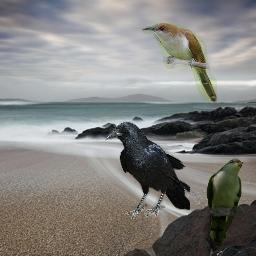Crow: (105, 121, 190, 219)
Cuckoo: (142, 23, 217, 103), (206, 158, 244, 246)
